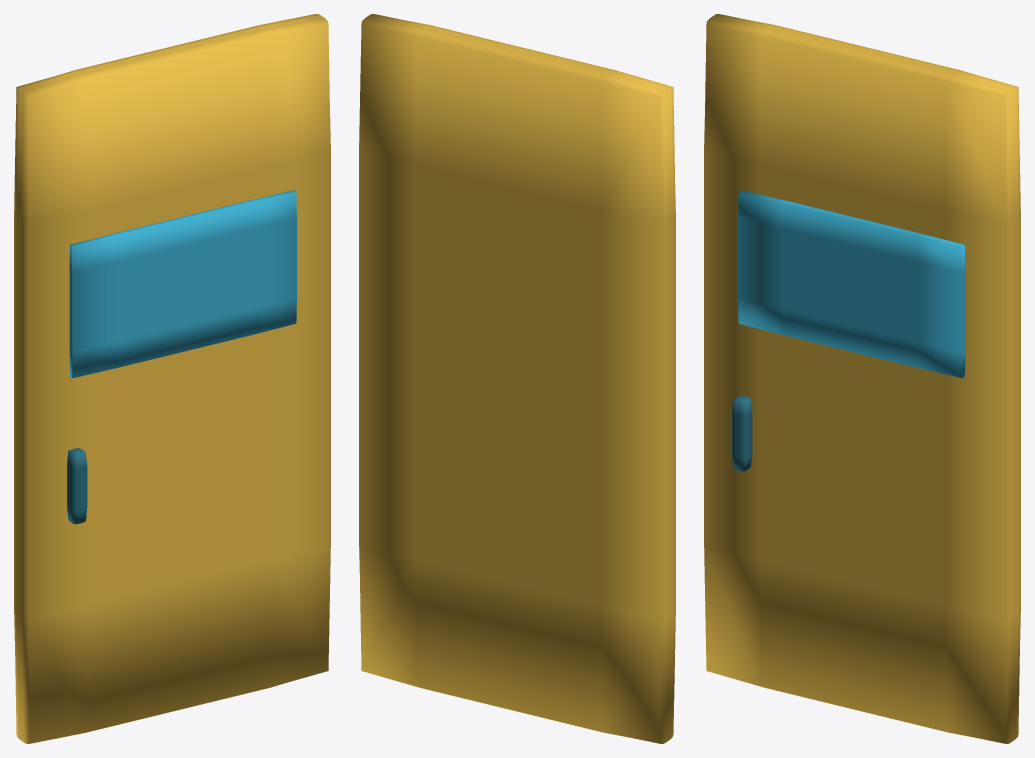
The model's file is puerta-interior-izquierda.glb.
The picture shows the model from 3 angles, left to right: view 1: azimuth 30°, elevation 25°; view 2: azimuth 150°, elevation 25°; view 3: azimuth 330°, elevation 25°; orthographic projection.
Parts seen in each view (by area): view 1: Amarillo, Agua, Petroleo; view 2: Amarillo; view 3: Amarillo, Agua, Petroleo.
Part boxes in pixels (<box>): Amarillo: <box>14,14,330,743</box>; Agua: <box>69,190,296,378</box>; Petroleo: <box>67,448,87,524</box>; Amarillo: <box>359,14,675,743</box>; Amarillo: <box>704,14,1020,743</box>; Agua: <box>738,190,965,378</box>; Petroleo: <box>732,395,752,471</box>.
Size of the model in its own units: 1.41 by 2.88 by 0.207.
